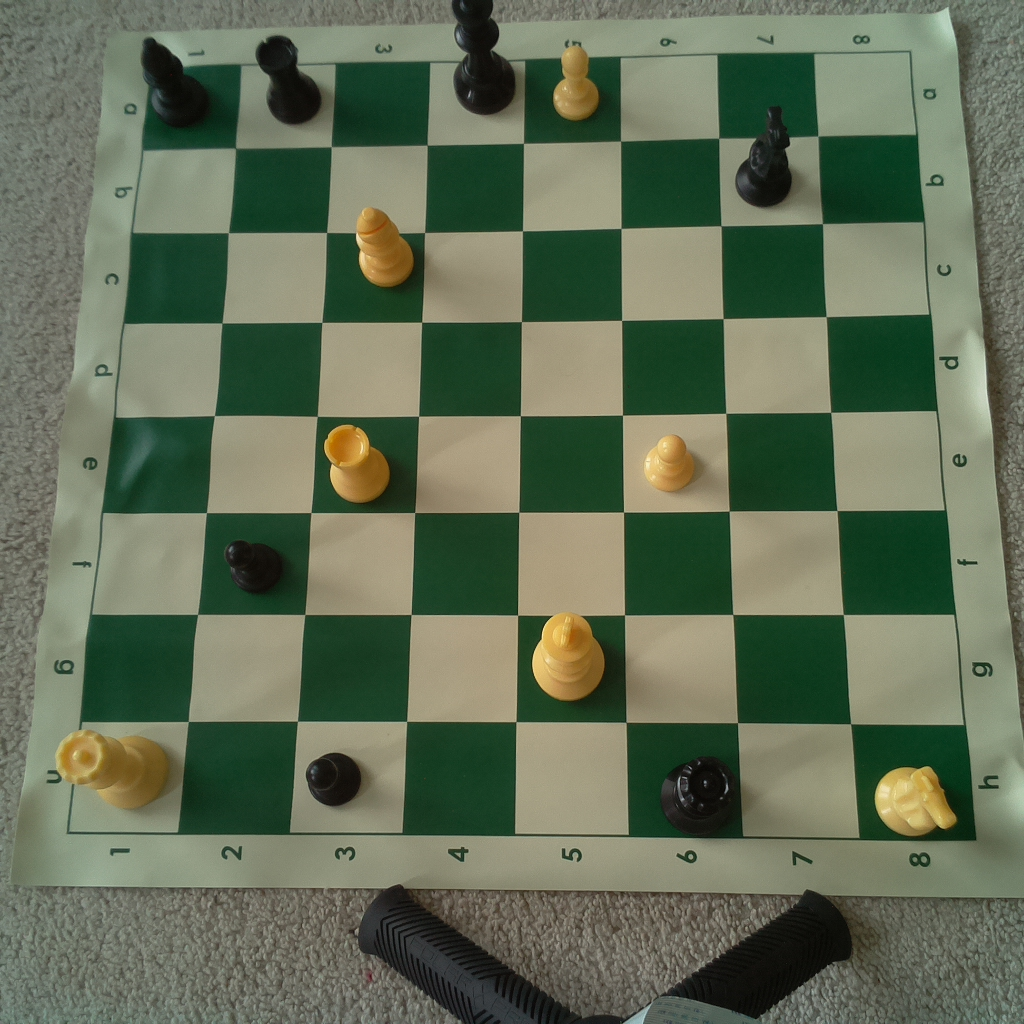black_bishop: (138, 34, 214, 127)
black_king: (444, 1, 520, 118)
black_knight: (724, 96, 799, 212)
black_pawn: (224, 530, 292, 599), (305, 748, 368, 806)
black_queen: (655, 753, 741, 839)
black_rook: (249, 31, 329, 126)
file_a: (140, 51, 918, 149)
file_b: (133, 136, 925, 232)
file_c: (125, 221, 931, 322)
file_d: (115, 317, 940, 421)
file_e: (102, 412, 947, 512)
file_f: (89, 510, 957, 617)
file_g: (79, 615, 968, 726)
file_h: (68, 725, 976, 840)
outline: (64, 52, 977, 838)
rank_1: (68, 65, 240, 833)
rank_2: (177, 65, 337, 835)
rank_3: (288, 61, 432, 834)
rank_4: (399, 61, 525, 836)
rank_5: (512, 61, 628, 834)
rank_6: (620, 56, 742, 836)
rank_7: (716, 54, 863, 838)
rank_8: (816, 54, 977, 838)
white_bishop: (351, 202, 415, 290)
white_king: (521, 610, 612, 706)
white_knight: (871, 761, 958, 839)
white_pawn: (550, 43, 602, 119), (637, 430, 698, 491)
white_queen: (50, 727, 175, 810)
white_rook: (321, 418, 393, 509)
